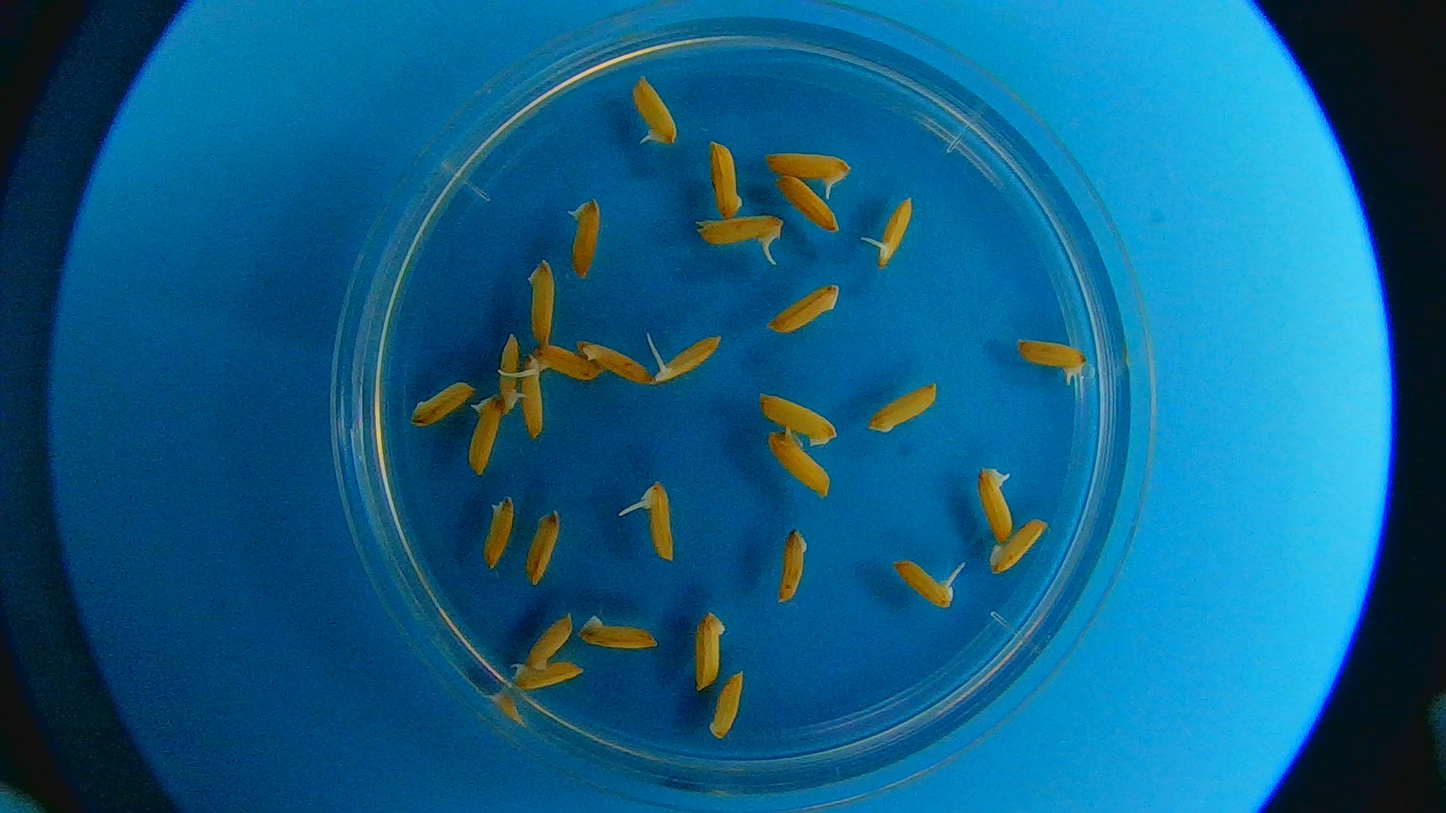no: (754, 385, 840, 450), (767, 421, 835, 499), (981, 514, 1050, 577), (772, 173, 842, 235), (576, 336, 659, 387), (866, 381, 938, 437), (504, 346, 603, 385), (769, 283, 840, 335), (465, 389, 505, 477), (709, 138, 751, 221), (409, 376, 476, 427), (578, 612, 659, 654), (564, 198, 603, 280), (690, 610, 728, 692), (500, 659, 584, 694), (526, 259, 559, 347), (523, 614, 572, 672), (480, 492, 514, 575), (526, 510, 561, 586), (711, 665, 744, 741), (779, 522, 809, 605)
yes: (1013, 335, 1085, 388), (630, 79, 681, 146), (759, 151, 851, 188), (695, 212, 784, 250), (897, 556, 958, 611), (978, 464, 1019, 544), (656, 332, 725, 379), (496, 330, 531, 416), (643, 483, 679, 563), (872, 199, 914, 266), (520, 350, 545, 440)
